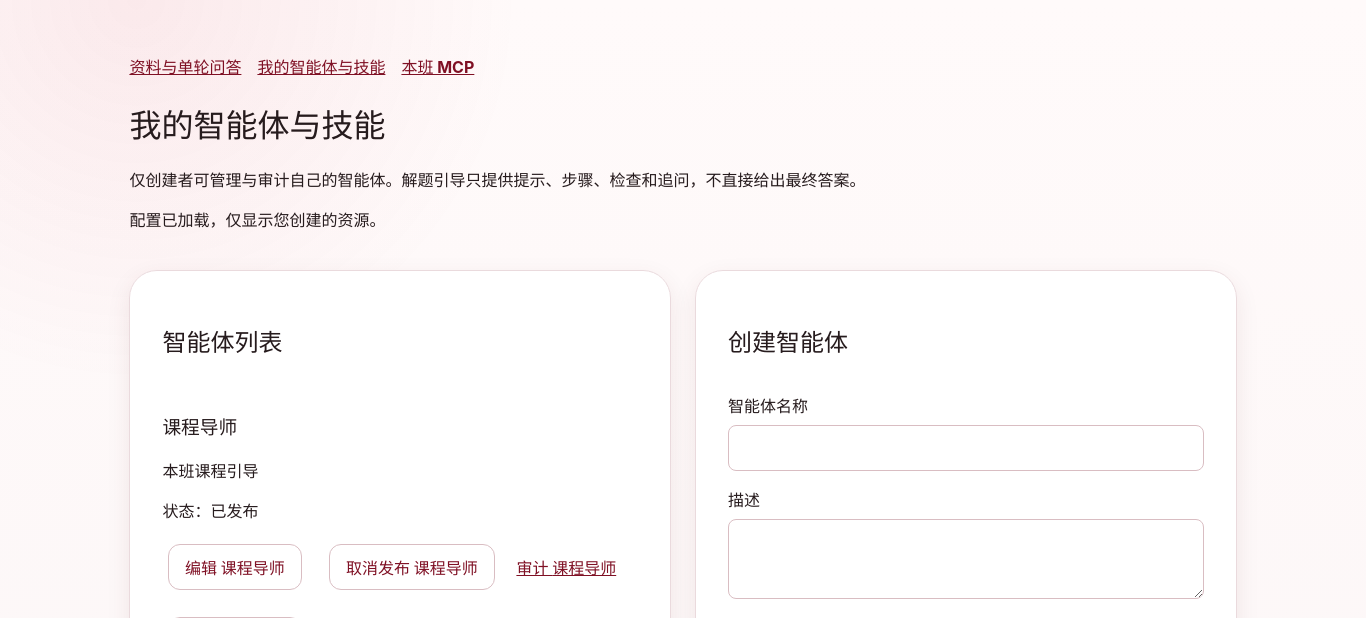
Scenario: creator-only teacher management › lets the creator remove a retired binding before repairing publication
The width and height of the screenshot is (1366, 618).
Click the button "编辑 课程导师".
click(235, 567)  # box 168,544 -> 302,590
(page scrolled)
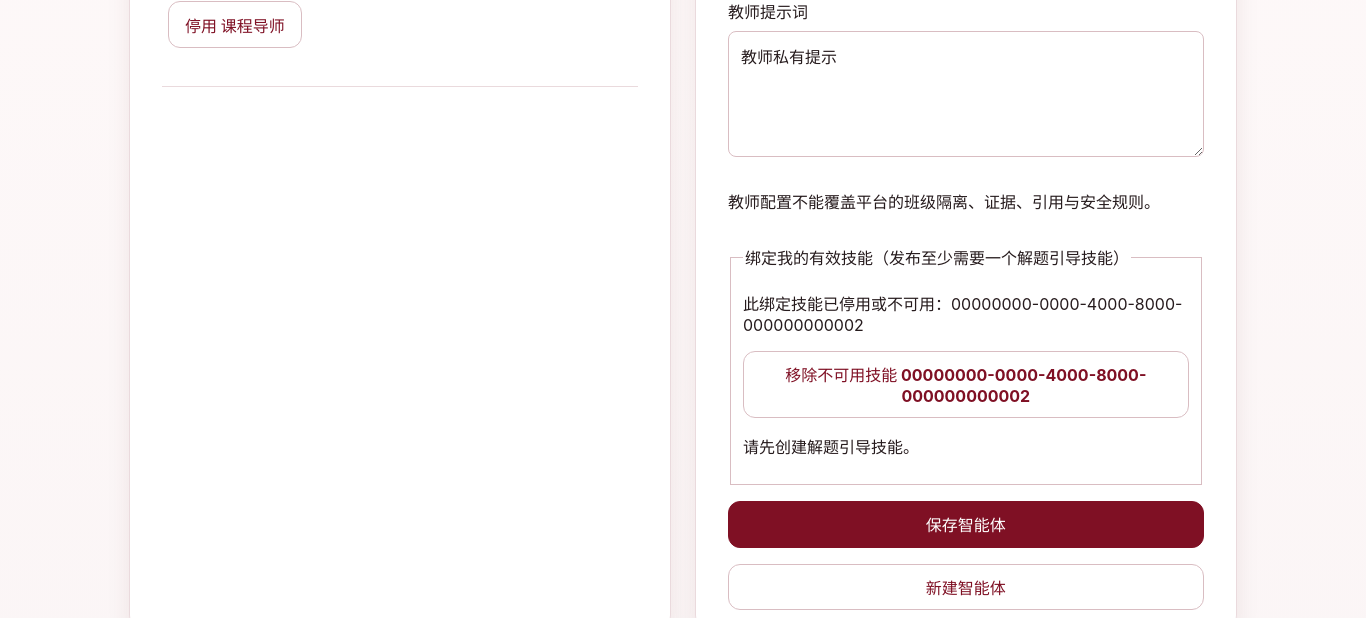
Click the button "移除不可用技能 00000000-0000-4000-8000-000000000002".
click(966, 384)  # box 743,351 -> 1189,418
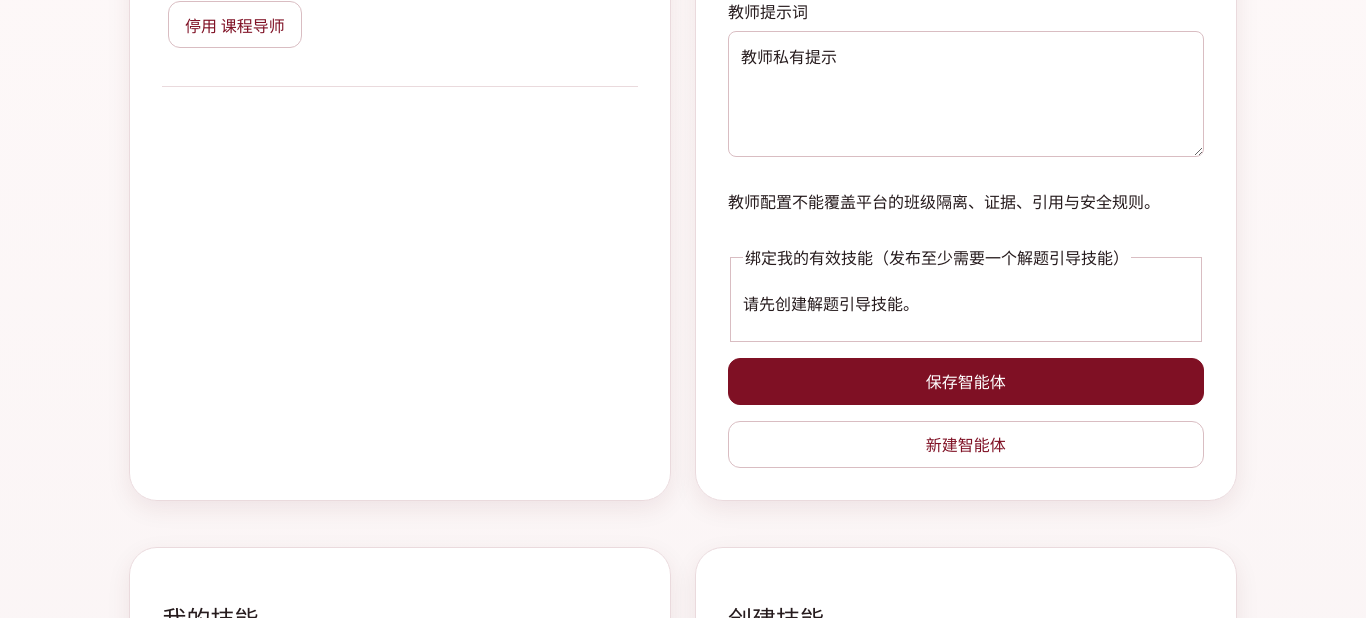
Click the button "保存智能体".
click(966, 382)  # box 728,358 -> 1204,405
(page scrolled)
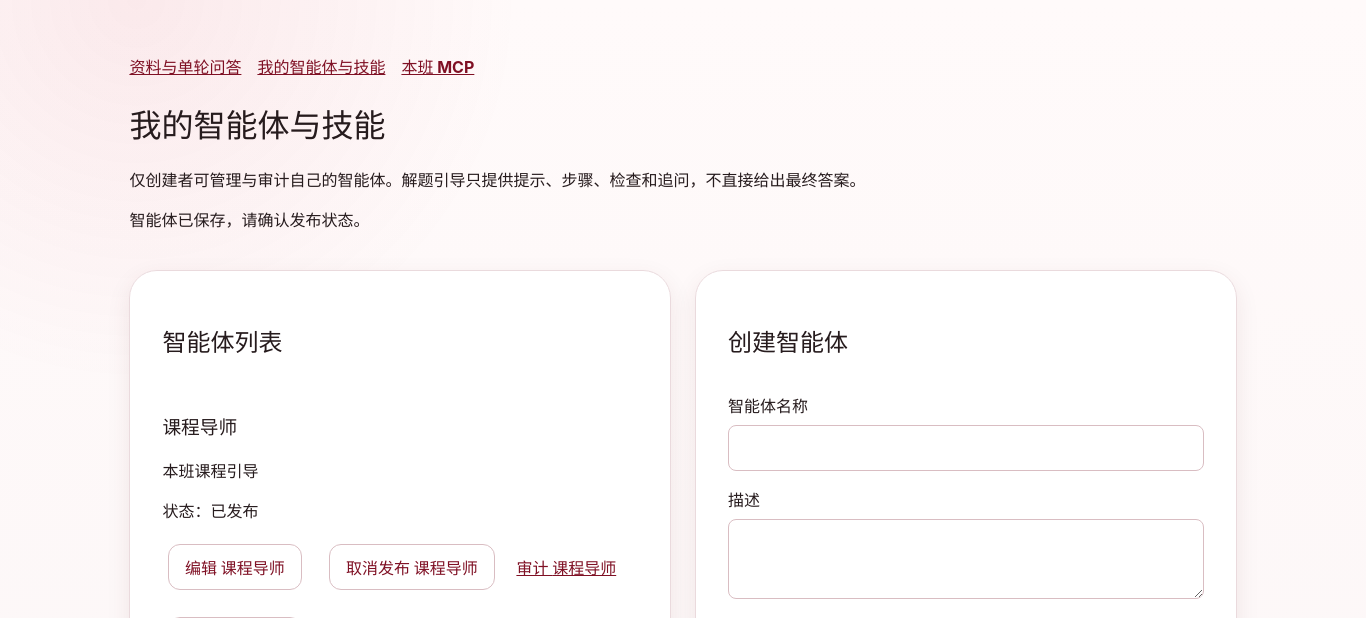
expect the text "智能体已保存，请确认发布状态。" is shown: met, box 129,210 -> 369,230
